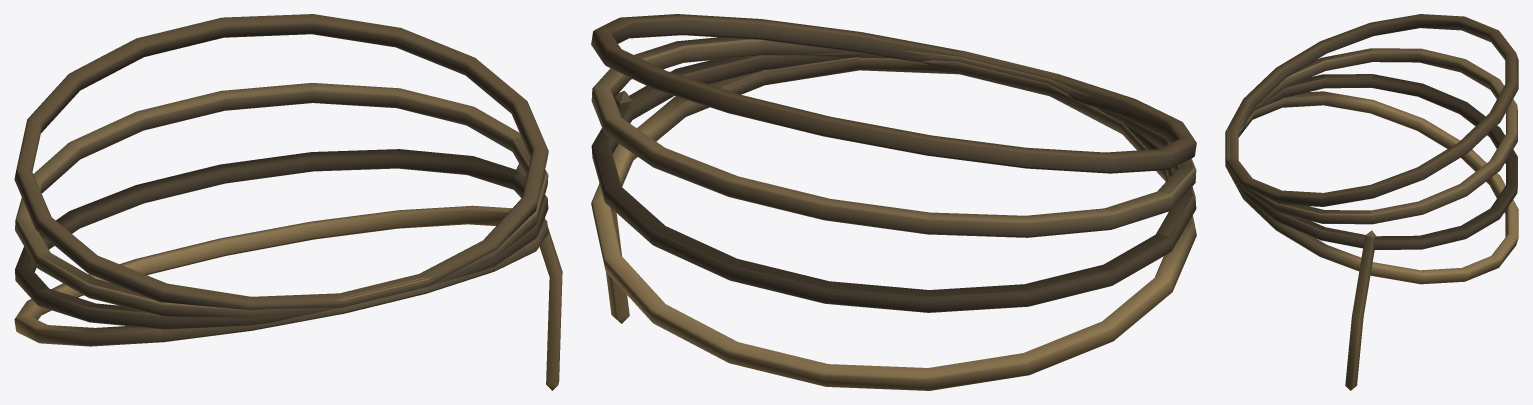
File: lashing.glb
The picture shows the model from 3 angles, left to right: view 1: azimuth 30°, elevation 25°; view 2: azimuth 150°, elevation 25°; view 3: azimuth 270°, elevation 25°; orthographic projection. The views are drawn at different scales.
Parts seen in each view (by area): view 1: wood-001; view 2: wood-001; view 3: wood-001.
Part boxes in pixels (x1,y1,x2,y2): wood-001: (14,14,562,390); wood-001: (591,14,1196,390); wood-001: (1225,14,1518,390).
Size of the model in its own units: 0.5863 by 0.3685 by 0.4126.
